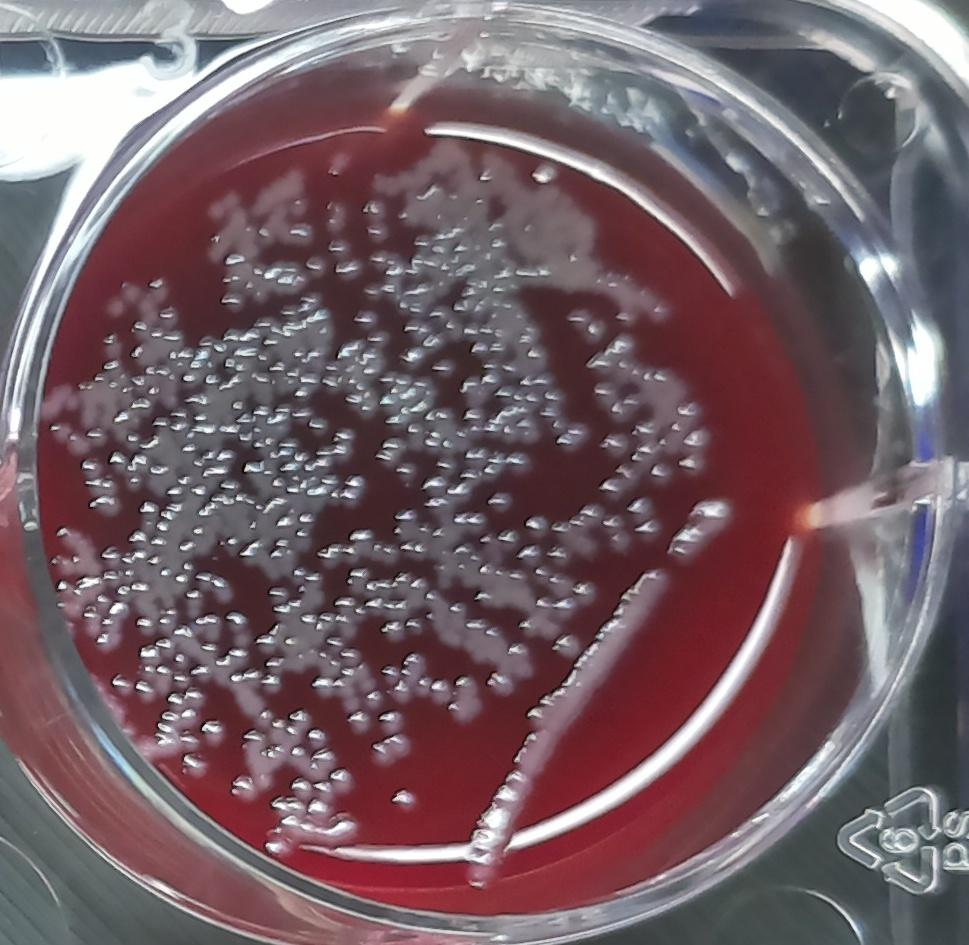paeruginosa: (454, 566, 666, 894), (657, 491, 740, 569)
